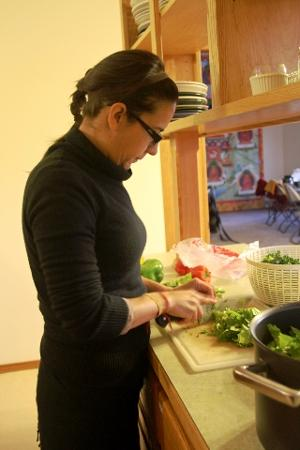person: (22, 49, 217, 450)
